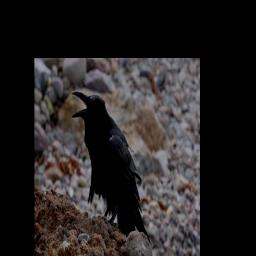Crow: (72, 92, 152, 245)
